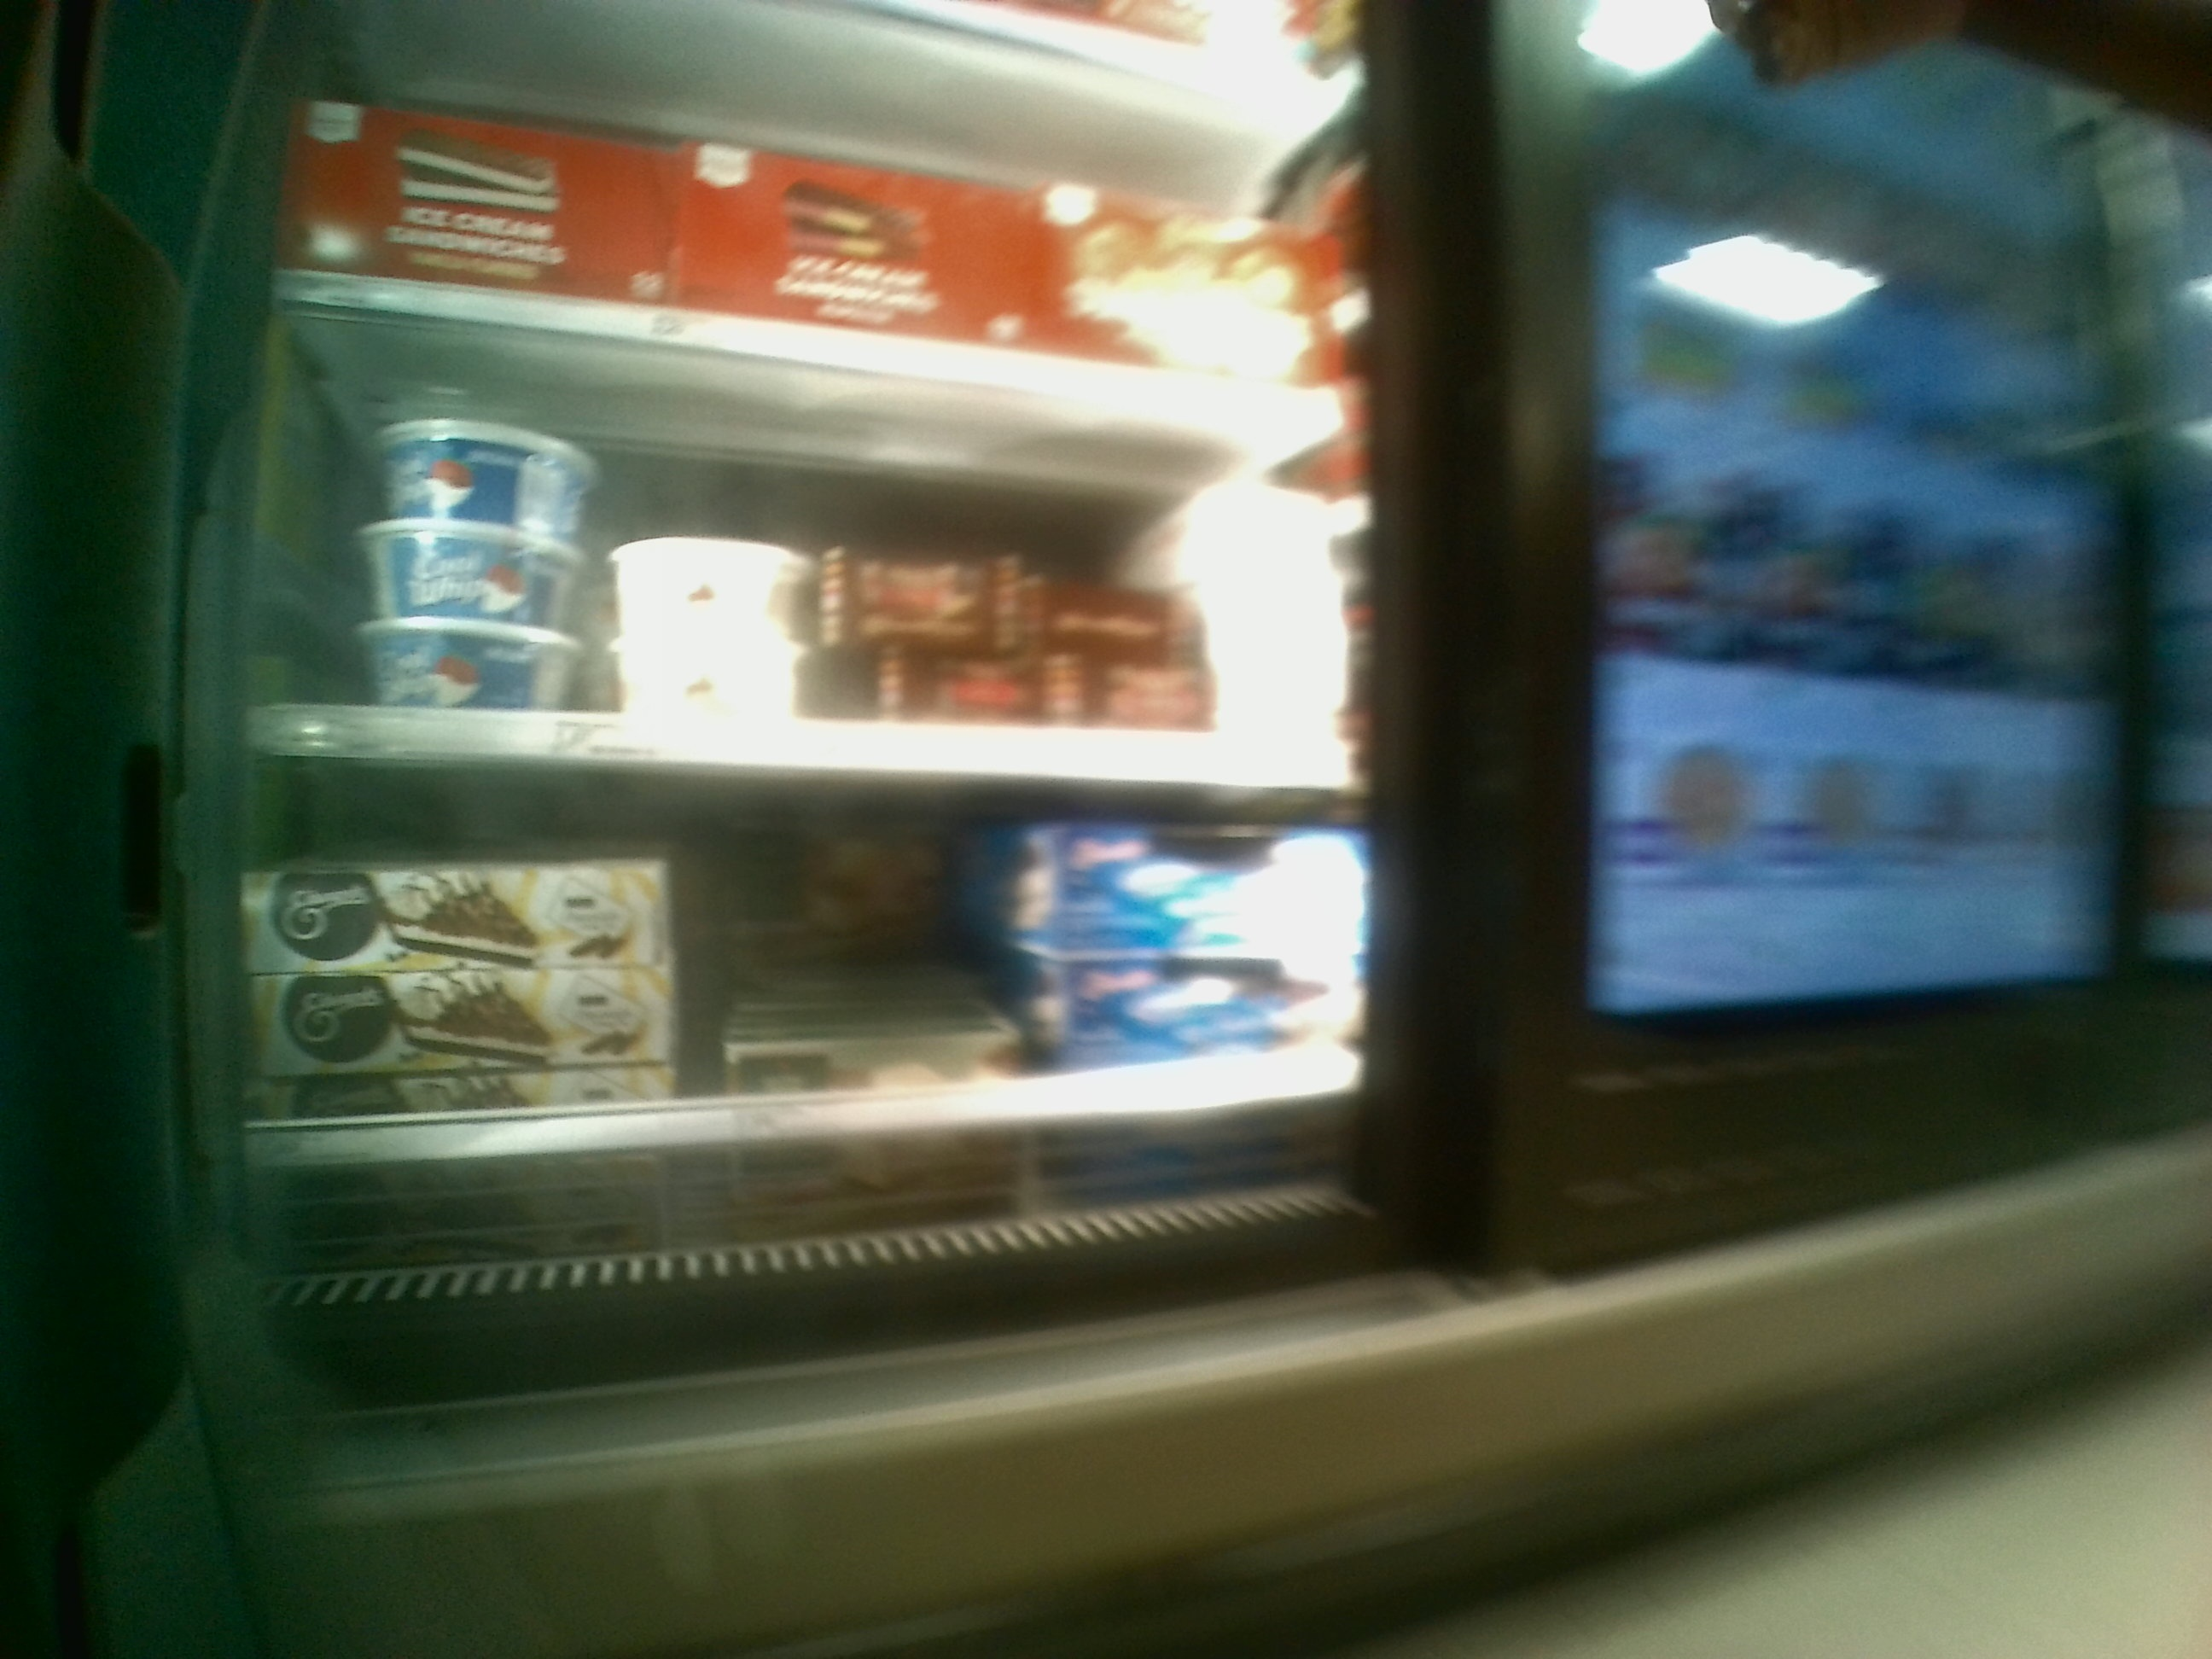frozen-food-shelf: (199, 772, 1404, 1178)
